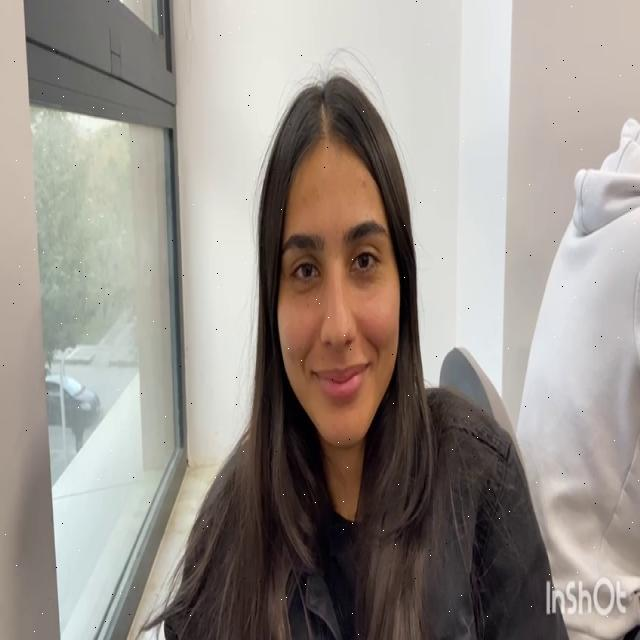happy: (265, 146, 410, 452)
